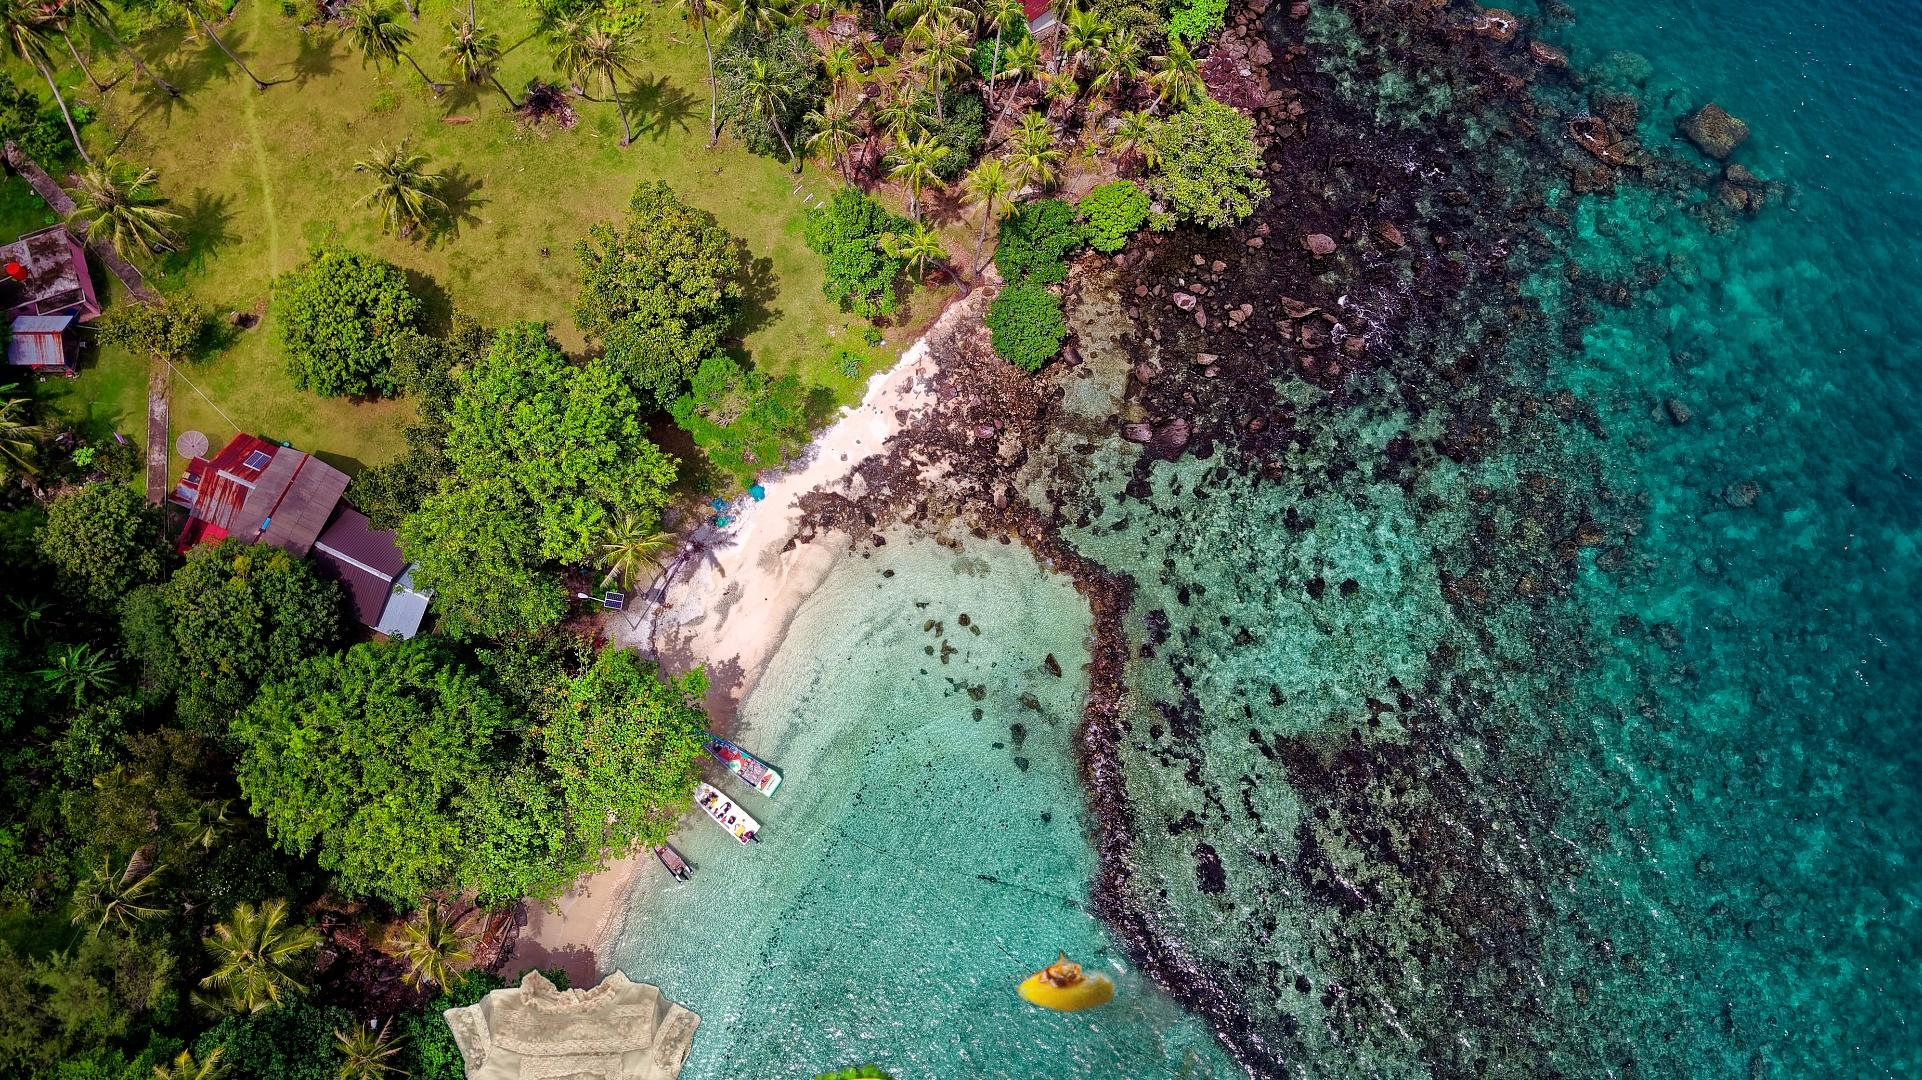biological: (814, 941, 1214, 1080)
clothes: (379, 962, 772, 1080)
